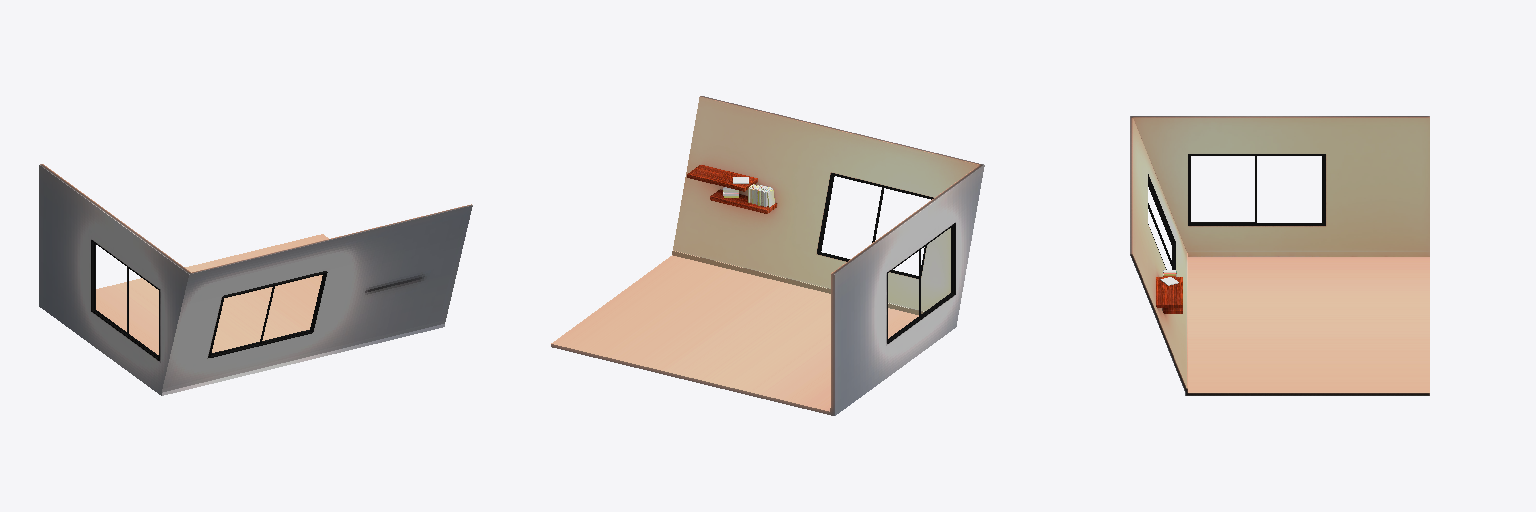
3 renders of one model, left to right at view 1: azimuth 30°, elevation 25°; view 2: azimuth 150°, elevation 25°; view 3: azimuth 270°, elevation 25°, orthographic.
Parts seen in each view (by area): view 1: Wall.001; view 2: Wall.001; view 3: Wall.001.
Boxes of the visible parts, x1=… form: Wall.001: x1=39, y1=164, x2=472, y2=395; Wall.001: x1=551, y1=96, x2=984, y2=415; Wall.001: x1=1130, y1=116, x2=1429, y2=395.
Bounding box in the file's own units: 5.08 × 2.43 × 4.66.
4 materials, 2 textured.